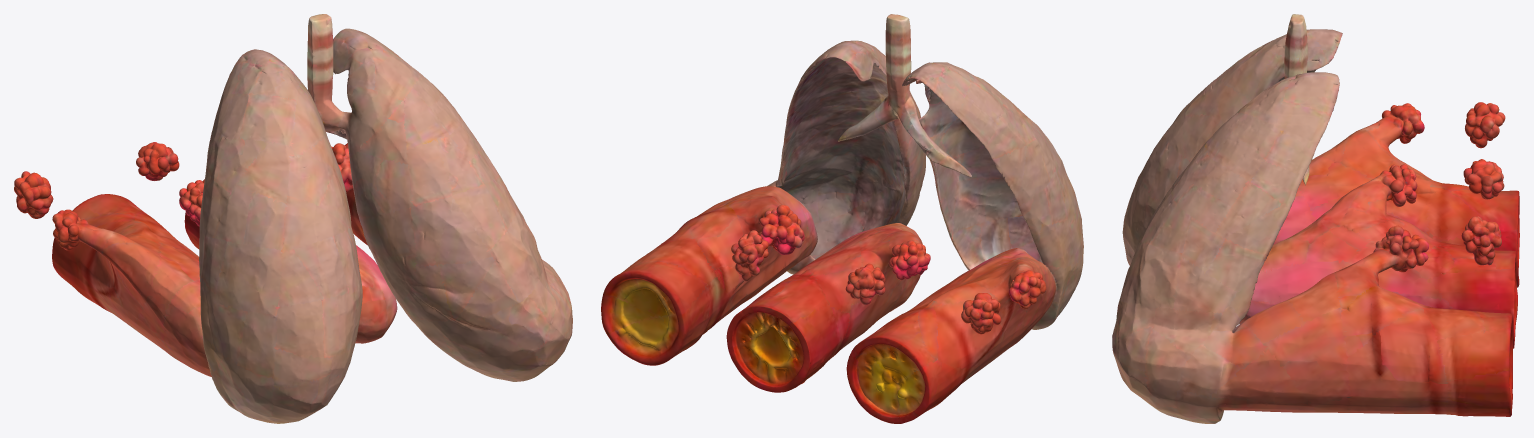
The model's file is symptoms-asthma.glb.
3 views of the same model, side by side, from view 1: azimuth 30°, elevation 25°; view 2: azimuth 150°, elevation 25°; view 3: azimuth 270°, elevation 25° (orthographic). The views are drawn at different scales.
Visible parts, largest first — view 1: asma2Model; view 2: asma2Model; view 3: asma2Model.
Part boxes in pixels (bbox=[...]): asma2Model: bbox=[14, 14, 572, 423]; asma2Model: bbox=[601, 14, 1083, 423]; asma2Model: bbox=[1112, 14, 1519, 423].
Bounding box in the file's own units: 2.02 × 1.61 × 1.77.
1 material, 1 textured.
